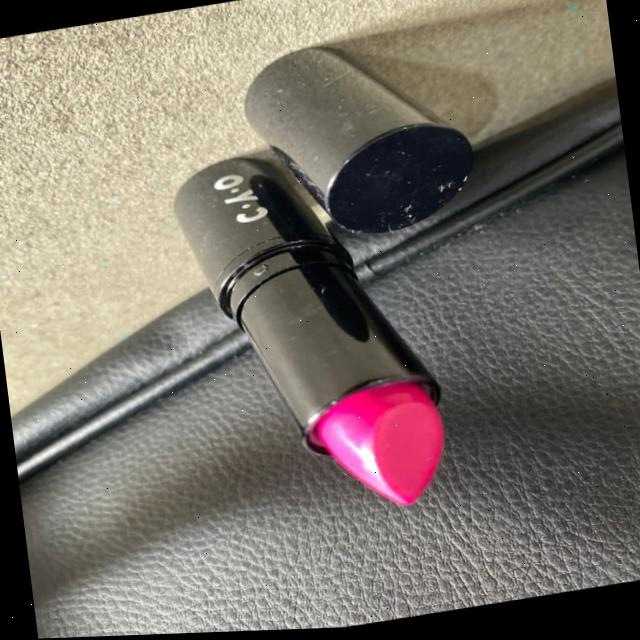lip stick: (261, 133, 460, 531)
